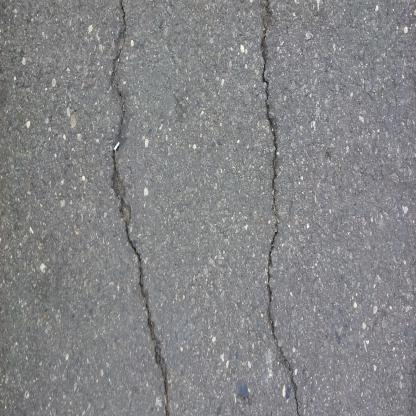Cracks: (105, 0, 173, 416), (257, 0, 302, 416)
